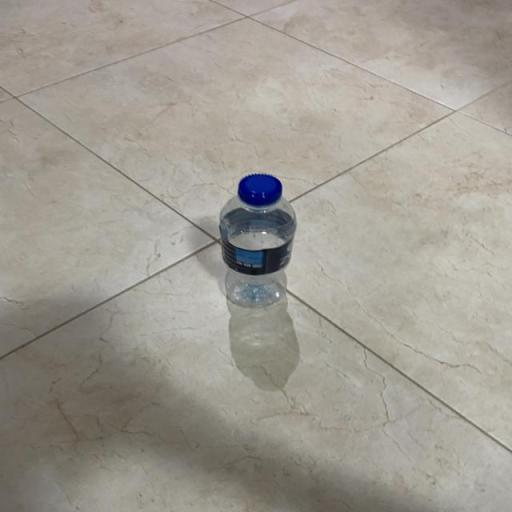plastic: (196, 166, 306, 316)
